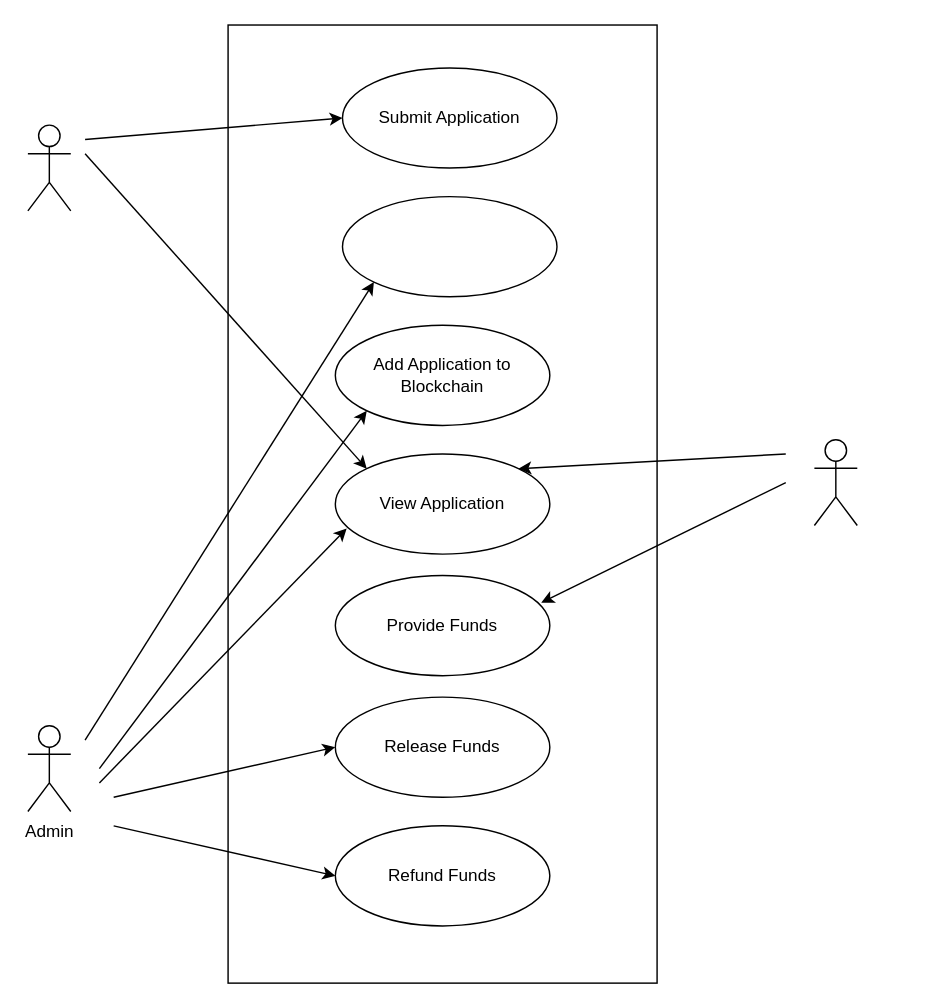
This 925x1008 diagram has some shape labels left out. Here are the shapes that lost their labels. From the top down, the centre of each, then its label:
At (x=48, y=167): "User".
At (x=449, y=246): "Review Application".
At (x=835, y=482): "Investor/Sponsor".
